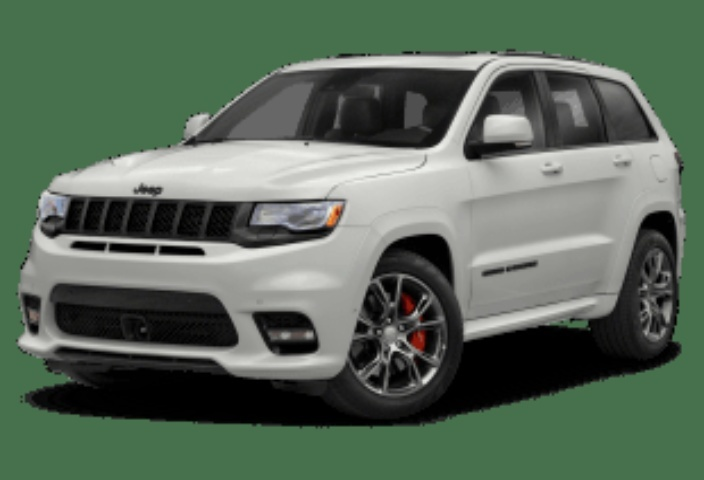camper: (10, 43, 701, 430)
